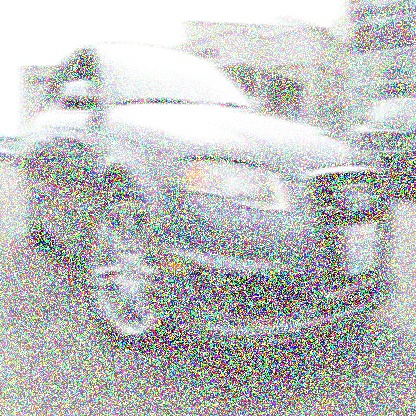Vehicle: (17, 42, 401, 355)
